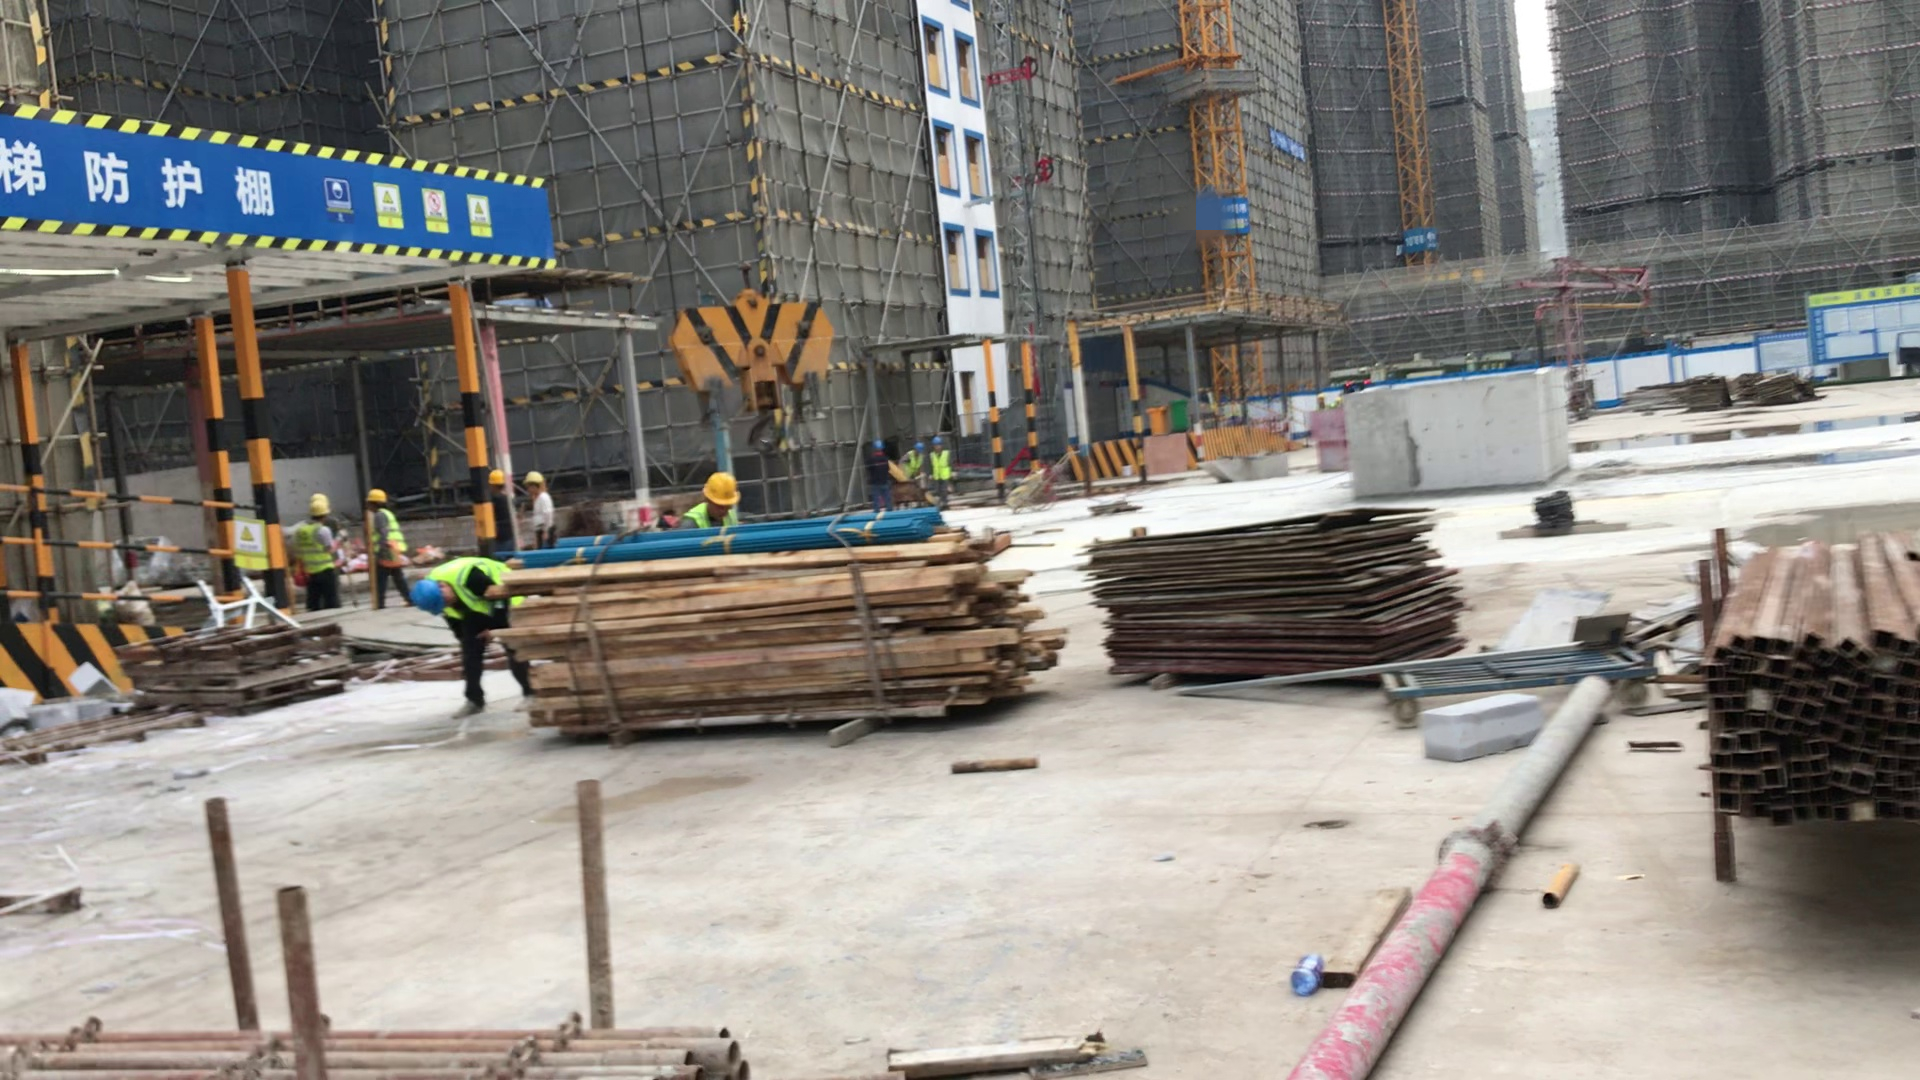board: (1095, 510, 1461, 683)
ebox: (1148, 404, 1170, 429)
handcart: (1009, 474, 1062, 513)
helmet: (703, 471, 741, 507), (412, 580, 443, 616), (309, 501, 331, 517), (522, 471, 545, 485), (365, 489, 387, 504), (488, 469, 504, 486), (871, 441, 884, 452), (913, 442, 923, 453), (931, 436, 944, 446)
hook: (667, 266, 833, 457)
hopper: (1202, 453, 1289, 483)
person: (412, 558, 532, 715), (364, 490, 411, 609), (296, 501, 336, 608), (681, 471, 742, 527), (523, 470, 557, 550), (489, 469, 515, 559), (867, 441, 890, 514), (930, 437, 951, 508), (900, 443, 924, 478)
scaffold: (1712, 547, 1920, 816), (1, 1027, 748, 1080)
slogan: (320, 174, 497, 247), (228, 520, 270, 568), (1266, 131, 1306, 158)
vest: (435, 561, 513, 616), (298, 526, 336, 572), (685, 501, 740, 530), (371, 514, 404, 560), (931, 453, 948, 480), (907, 452, 921, 476)
wood: (519, 562, 1047, 710)
